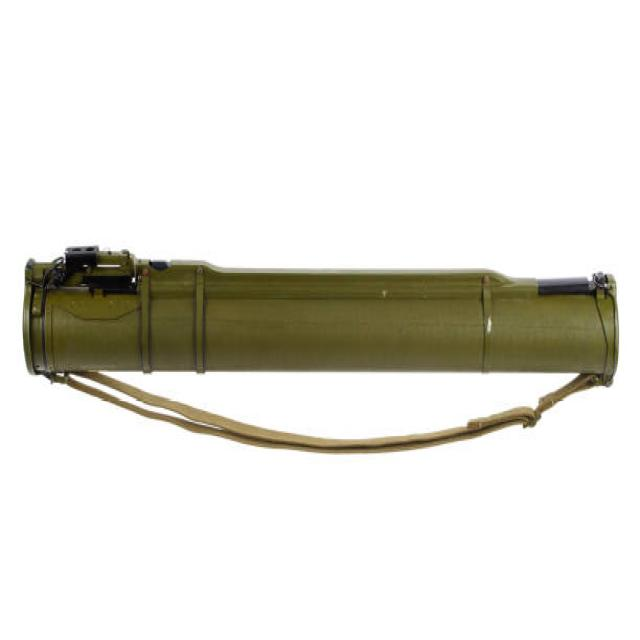bazooka: (12, 237, 627, 390)
